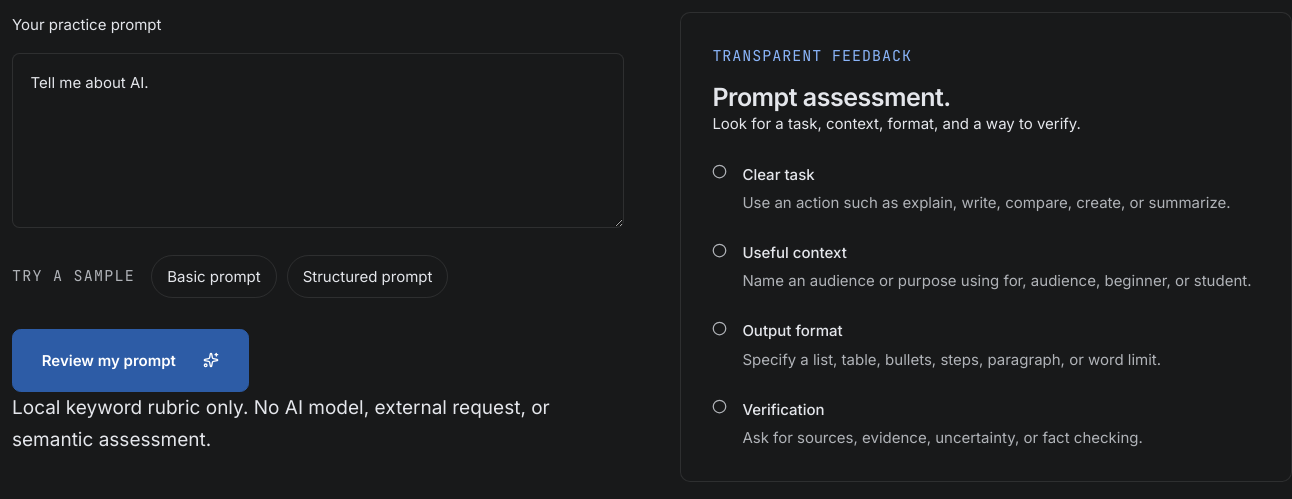
fictional interactive demonstrations › evaluates editable prompts with transparent rules
Click the button "Structured prompt". click: [368, 277]
box: [287,255,448,298]
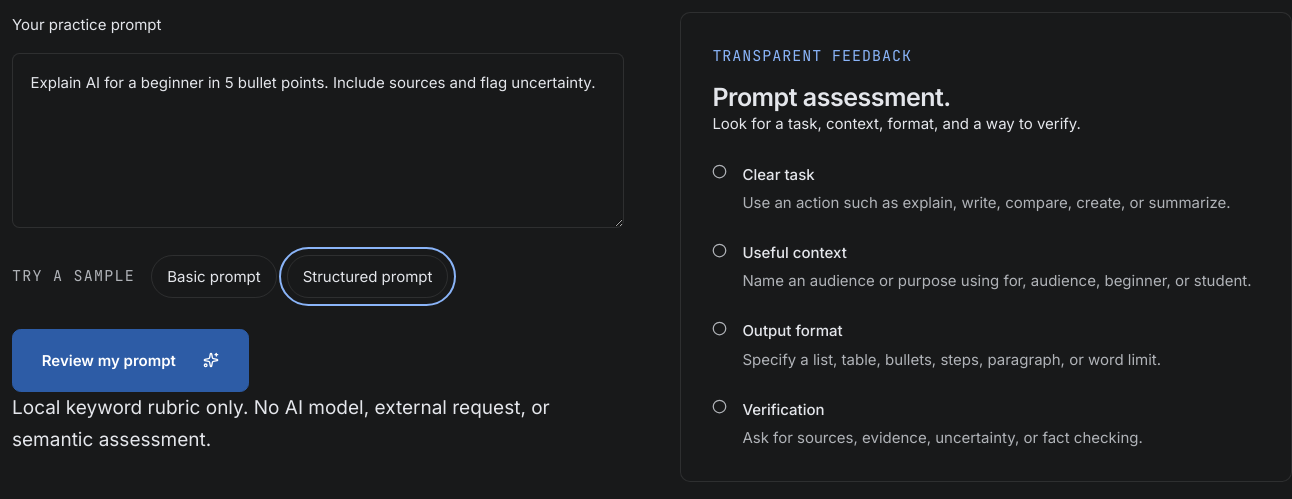
Click the button "Review my prompt". click: [131, 360]
box: [12,329,249,392]
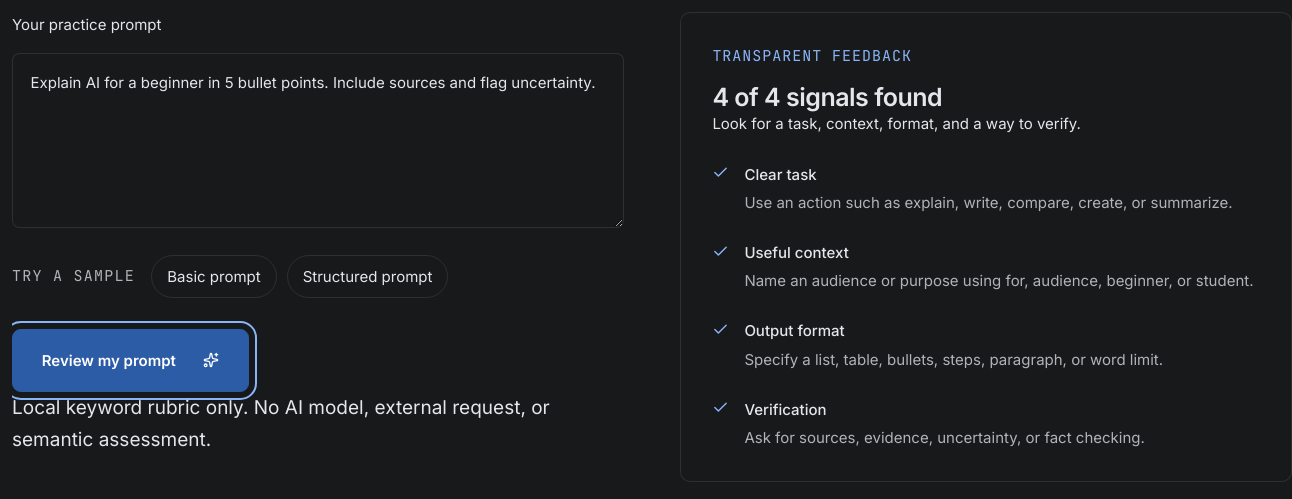
Expected: the heading "4 of 4 signals found" is shown, [712,82,942,112]
